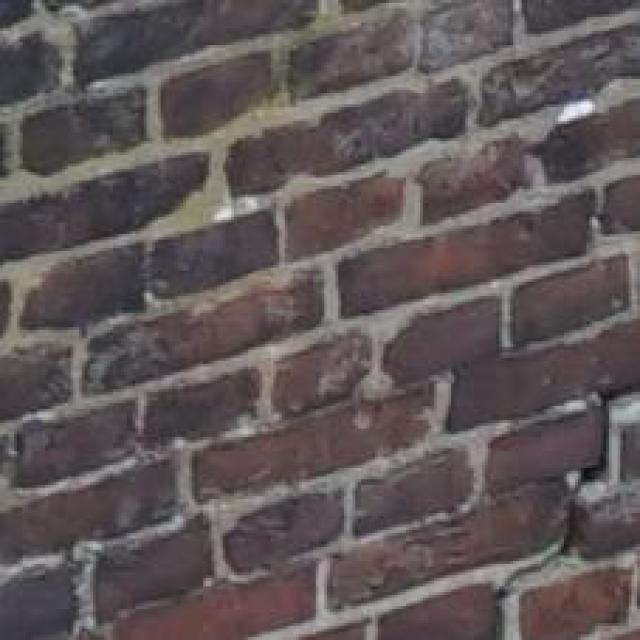Crack: (449, 333, 640, 602)
